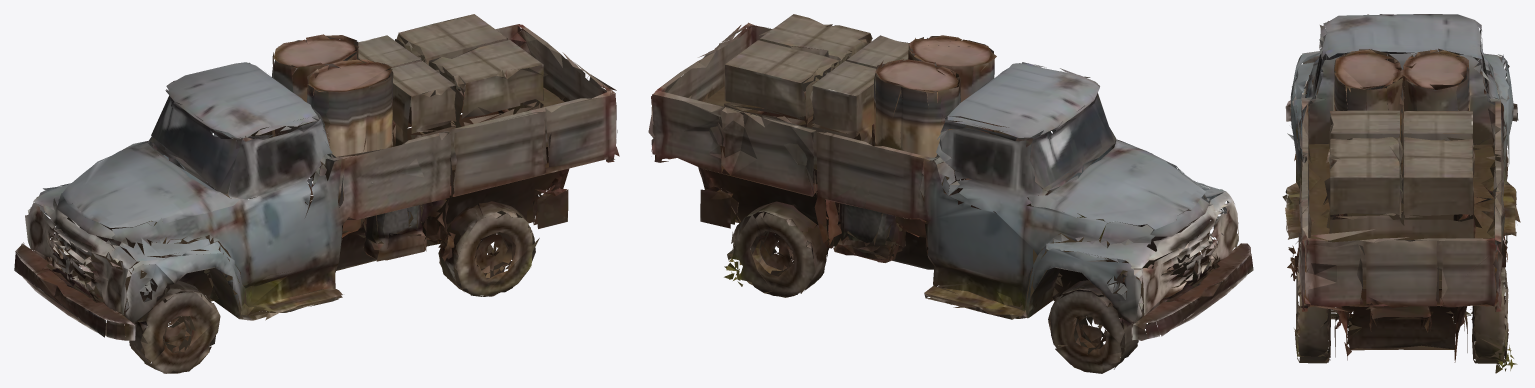
File: container_zil.glb
The picture shows the model from 3 angles, left to right: view 1: azimuth 30°, elevation 25°; view 2: azimuth 150°, elevation 25°; view 3: azimuth 270°, elevation 25°; orthographic projection. The views are drawn at different scales.
Visible parts, largest first — view 1: container_zil; view 2: container_zil; view 3: container_zil.
Part boxes in pixels (<box>): container_zil: <box>14,14,619,373</box>; container_zil: <box>648,14,1253,373</box>; container_zil: <box>1282,14,1520,373</box>.
Size of the model in its own units: 6.69 by 2.81 by 2.56.
Materials: 1 (1 with a texture image).
